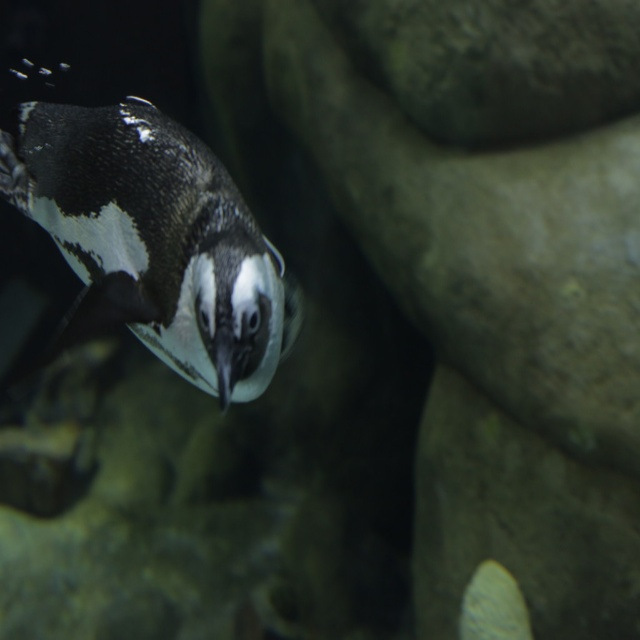Penguin: (0, 56, 305, 411)
